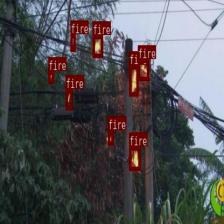fire: (129, 145, 140, 170), (129, 65, 138, 95), (92, 34, 102, 57), (138, 59, 148, 80), (66, 89, 72, 109), (70, 33, 76, 51), (107, 129, 112, 145), (48, 70, 54, 82)
